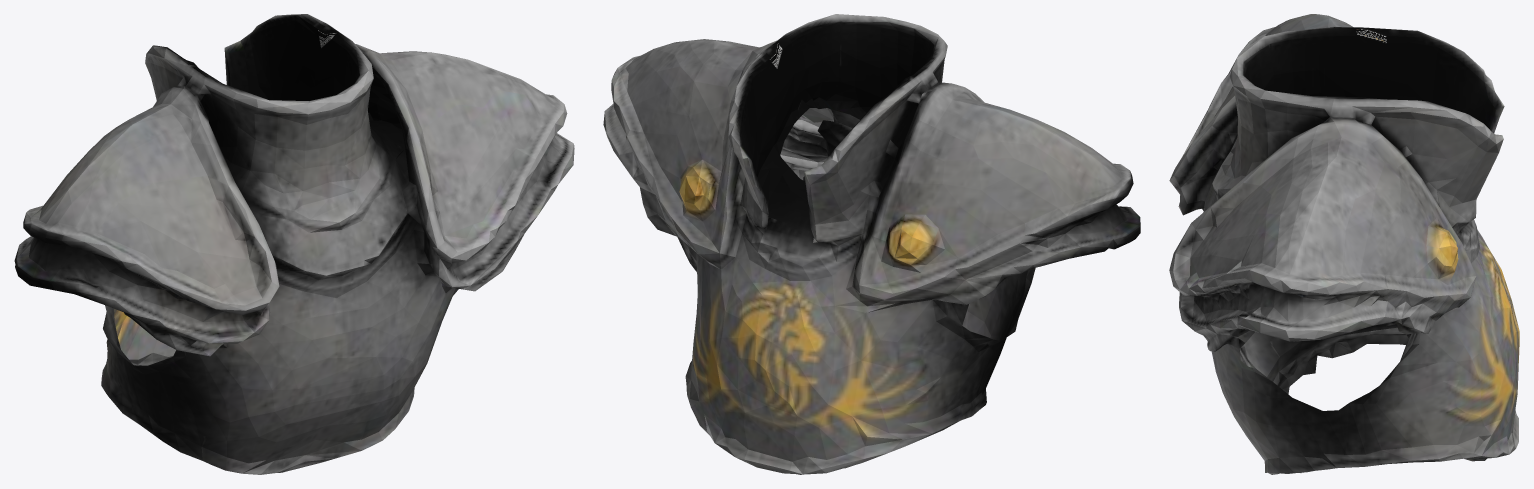
Rendered from armor.obj.
3 views of the same model, side by side, from view 1: azimuth 30°, elevation 25°; view 2: azimuth 150°, elevation 25°; view 3: azimuth 270°, elevation 25° (orthographic). The views are drawn at different scales.
Bounding box in the file's own units: 2.36 × 1.61 × 1.31.
1 material, 1 textured.
